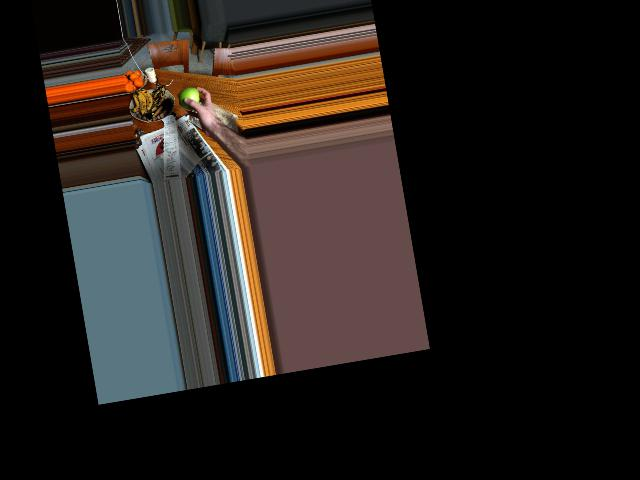apple: (176, 86, 201, 111)
